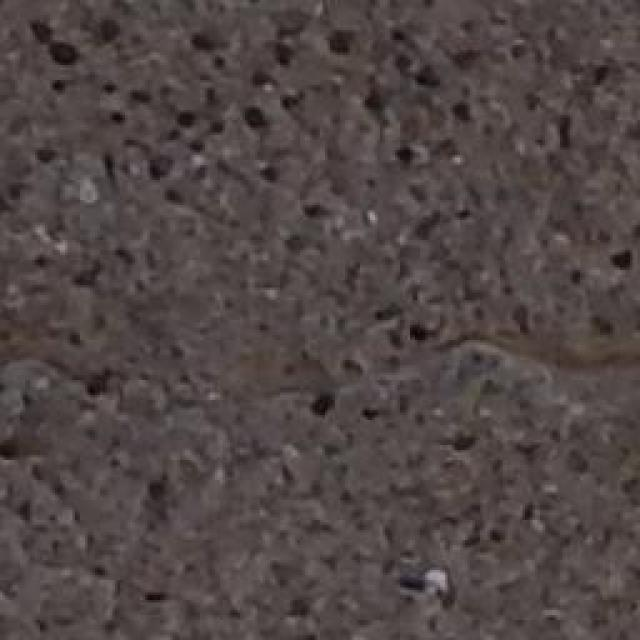concrete-crack: (4, 329, 640, 444)
